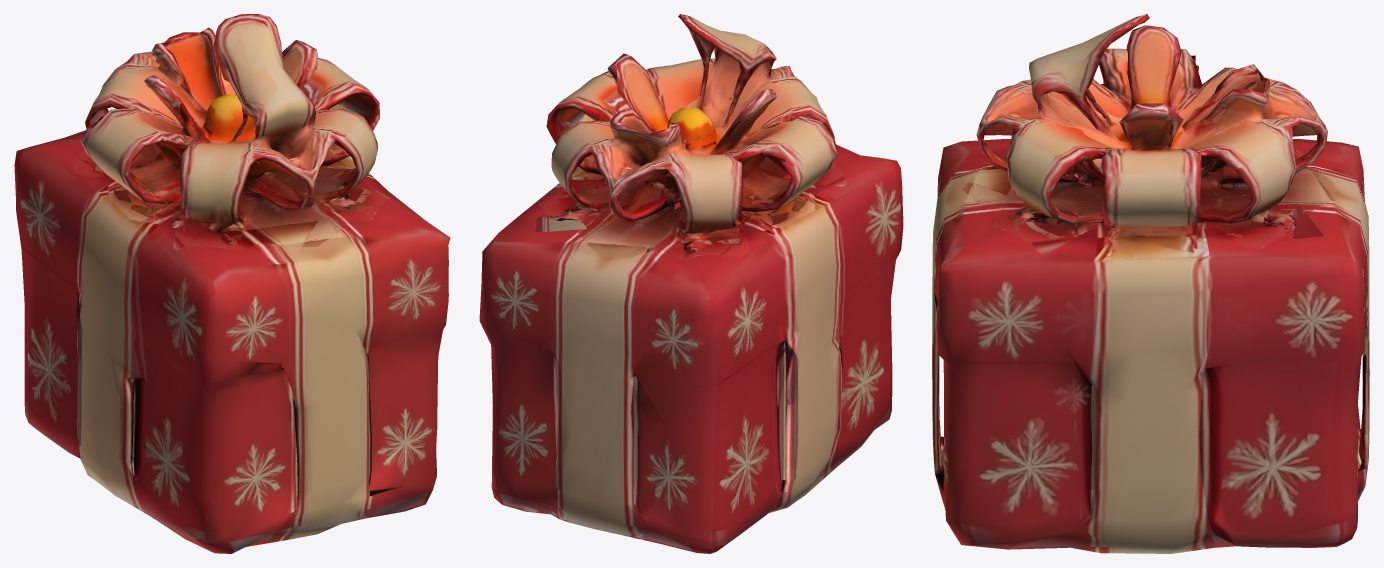
Rendered from Meshy_AI_redbox_0104082100_texture.fbx.
3 renders of one model, left to right at view 1: azimuth 30°, elevation 25°; view 2: azimuth 150°, elevation 25°; view 3: azimuth 270°, elevation 25°, orthographic. The views are drawn at different scales.
Parts seen in each view (by area): view 1: Mesh0; view 2: Mesh0; view 3: Mesh0.
Boxes of the visible parts, x1,y1,x2,y2 form: Mesh0: [14, 14, 450, 553]; Mesh0: [479, 14, 903, 553]; Mesh0: [932, 14, 1369, 553].
Bounding box in the file's own units: 113 × 191 × 156.
1 material, 1 textured.
